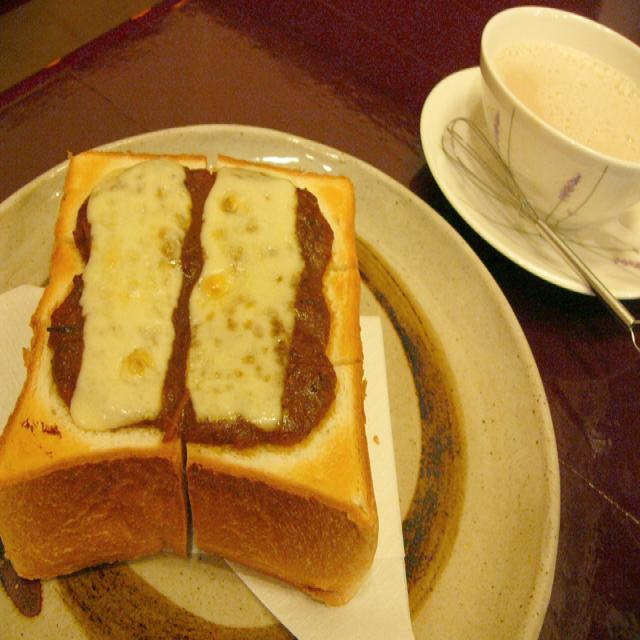面包点心: (6, 117, 392, 608)
